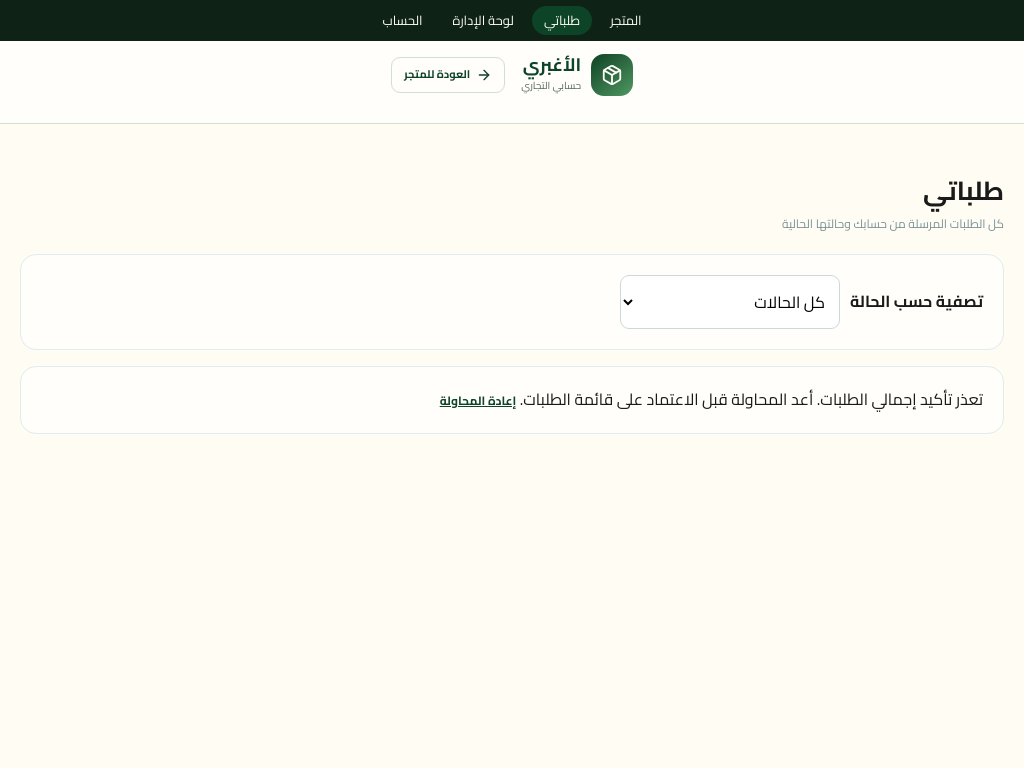
customer order-list real route acceptance › does not misreport unknown exact counts as an empty list
Expected: the message shows "تعذر تأكيد إجمالي الطلبات", top-left (520, 384), bottom-right (983, 414)
Expected: the text "لا توجد طلبات بعد." is not shown
What coordinates should you click on to do the following:
click the button "إعادة المحاولة"
I would click on:
 (478, 401)
Its box is top-left (440, 391), bottom-right (516, 410).
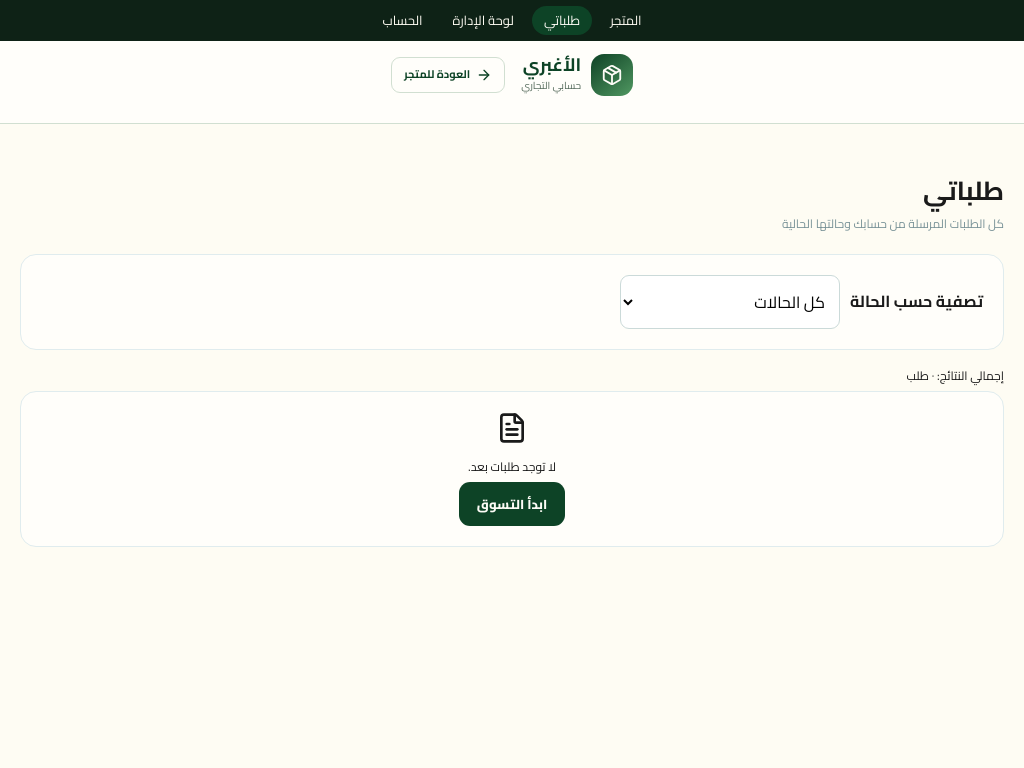
Expected: the message is gone
Expected: the text "لا توجد طلبات بعد." is shown, top-left (468, 455), bottom-right (556, 478)
Expected: the link to "/" reads "ابدأ التسوق", top-left (459, 482), bottom-right (565, 526)
